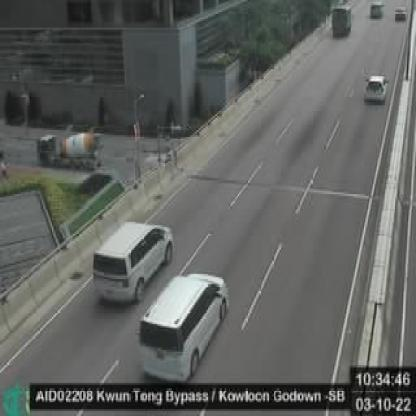Car: (139, 272, 229, 375), (91, 224, 170, 305), (363, 75, 387, 102), (394, 5, 404, 21), (369, 2, 382, 14)
Truck: (329, 6, 350, 36)
